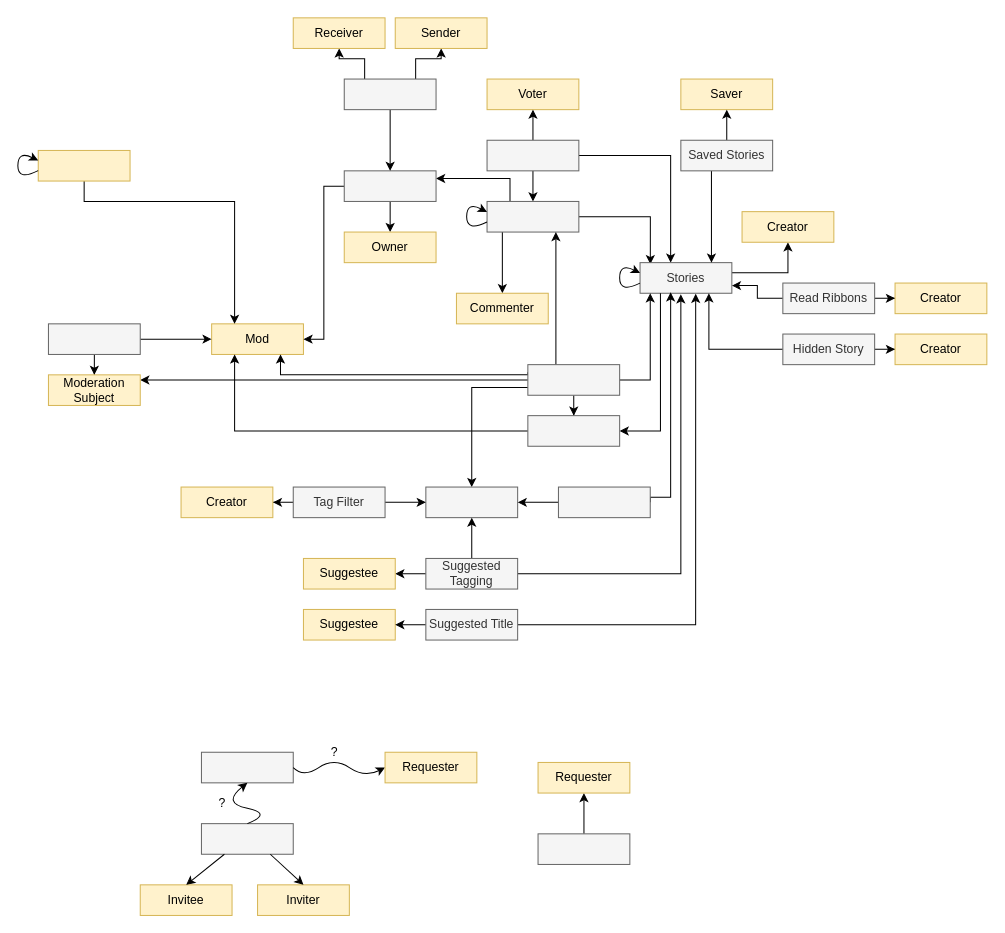
The diagram is 1005 pixels wide and 933 high, and some of its shapes have lost their labels. Here are the shapes that lost their labels. From the top down, the centre of each, then its label:
At pixel 389 94: "Messages".
At pixel 83 165: "Any User".
At pixel 532 155: "Votes".
At pixel 389 185: "Hat".
At pixel 532 216: "Comments".
At pixel 93 338: "Mod Notes".
At pixel 573 379: "Moderation".
At pixel 573 430: "Domain".
At pixel 471 502: "Tag".
At pixel 603 502: "Tagging".
At pixel 246 767: "Invitation Request".
At pixel 246 838: "Invitations".
At pixel 583 848: "Hat Requests".
